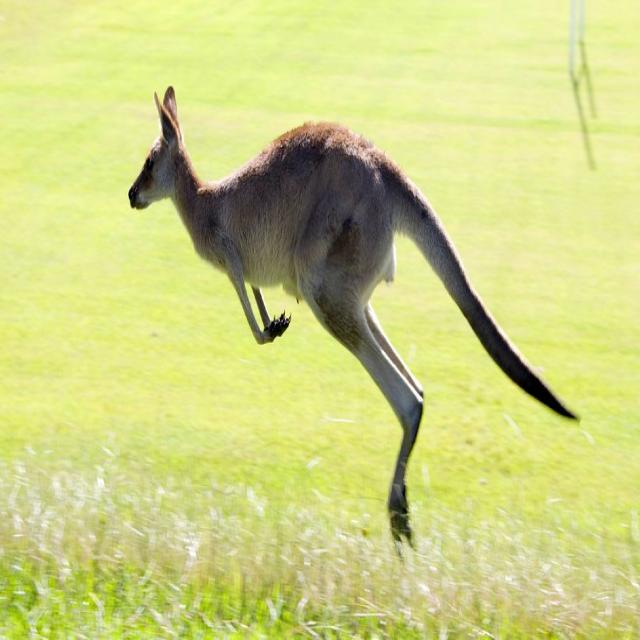kangaroo: (129, 86, 577, 539)
